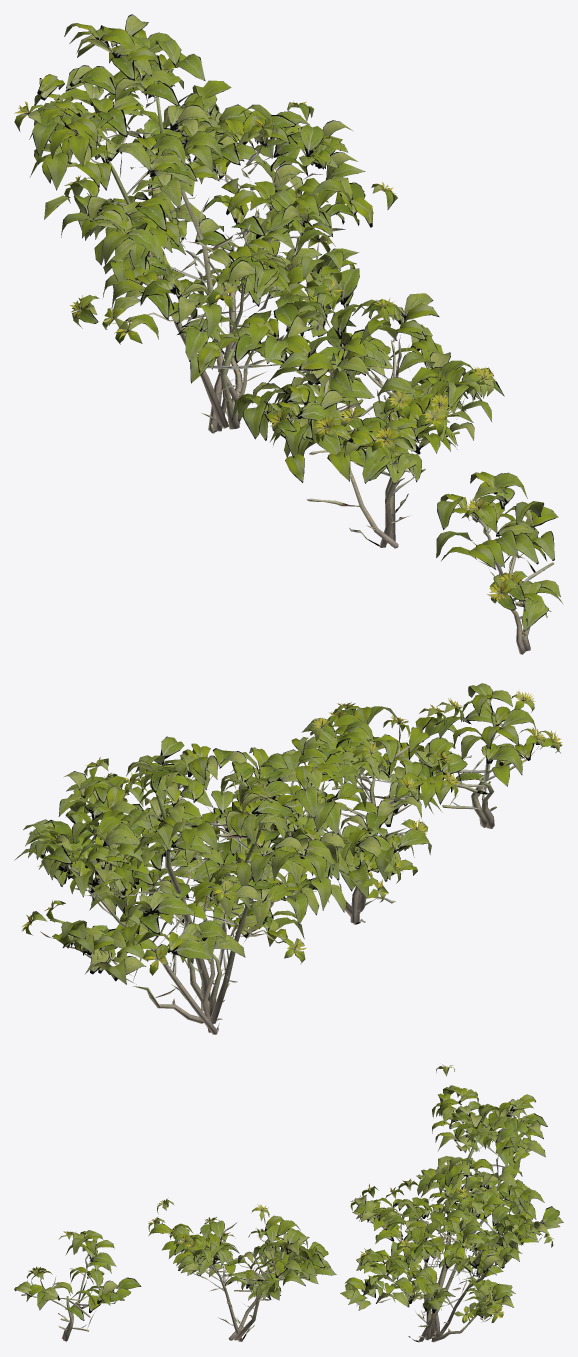
File: didelta_spinosa.glb
3 renders of one model, top to bottom at view 1: azimuth 30°, elevation 25°; view 2: azimuth 150°, elevation 25°; view 3: azimuth 270°, elevation 25°, orthographic. The views are drawn at different scales.
Parts seen in each view (by area): view 1: didelta_spinosa_large_LOD0; view 2: didelta_spinosa_large_LOD0; view 3: didelta_spinosa_large_LOD0.
Part boxes in pixels (bbox=[...]): didelta_spinosa_large_LOD0: bbox=[14, 14, 563, 654]; didelta_spinosa_large_LOD0: bbox=[14, 683, 562, 1034]; didelta_spinosa_large_LOD0: bbox=[14, 1064, 563, 1342].
Size of the model in its own units: 2.12 by 2.07 by 4.56.
1 material, 1 textured.
